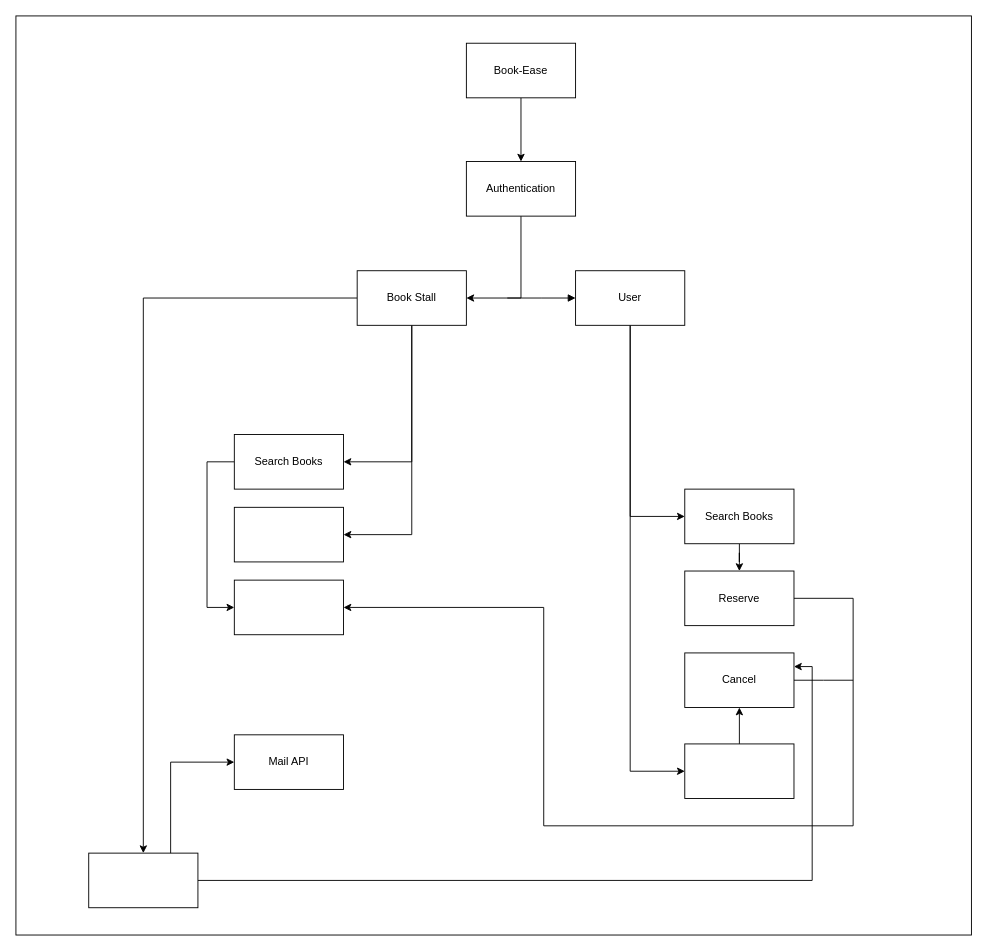
This 987x951 diagram has some shape labels left out. The box of each missing label's shape, as (x1, y1, x2, y2) in pixels:
Add Book: (233, 506, 344, 562)
Auto Cancel: (88, 852, 198, 908)
Kart: (684, 743, 794, 799)
Update Book: (233, 579, 344, 635)
